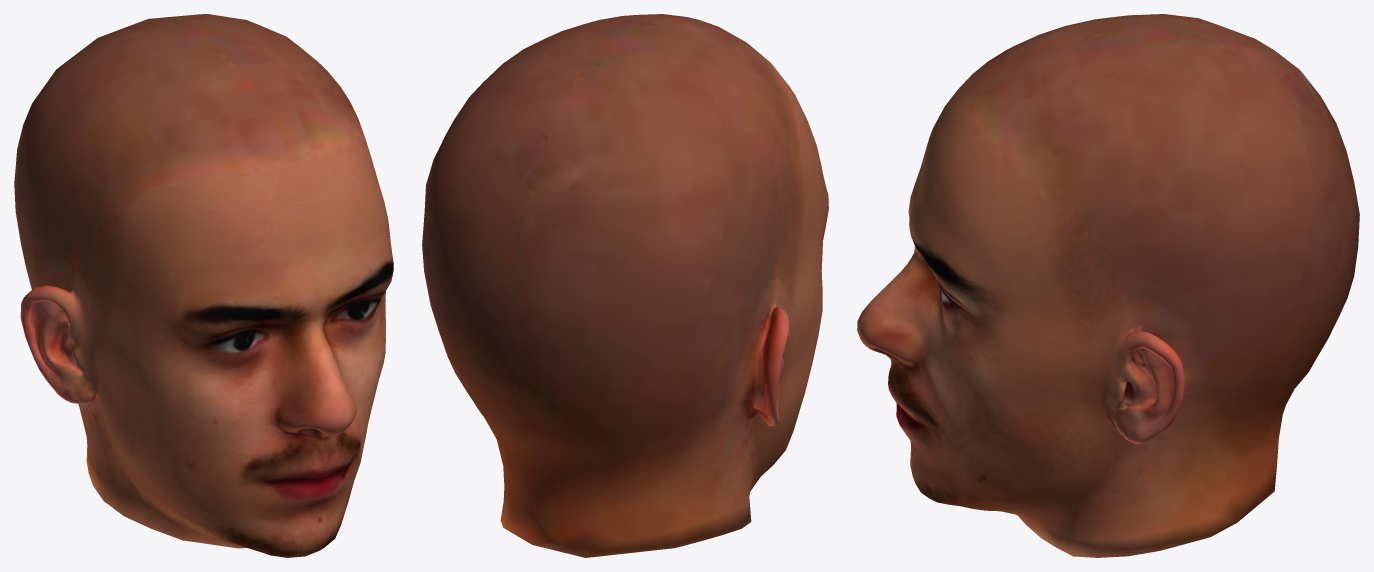
The model's file is NezHead5.glb.
3 renders of one model, left to right at view 1: azimuth 30°, elevation 25°; view 2: azimuth 150°, elevation 25°; view 3: azimuth 270°, elevation 25°, orthographic. The views are drawn at different scales.
Visible parts, largest first — view 1: avaturn_body; view 2: avaturn_body; view 3: avaturn_body.
Part boxes in pixels (x1,y1,x2,y2): avaturn_body: (14,14,393,557); avaturn_body: (422,14,828,557); avaturn_body: (857,14,1359,557).
Bounding box in the file's own units: 0.1891 × 0.2575 × 0.2407.
1 material, 1 textured.
